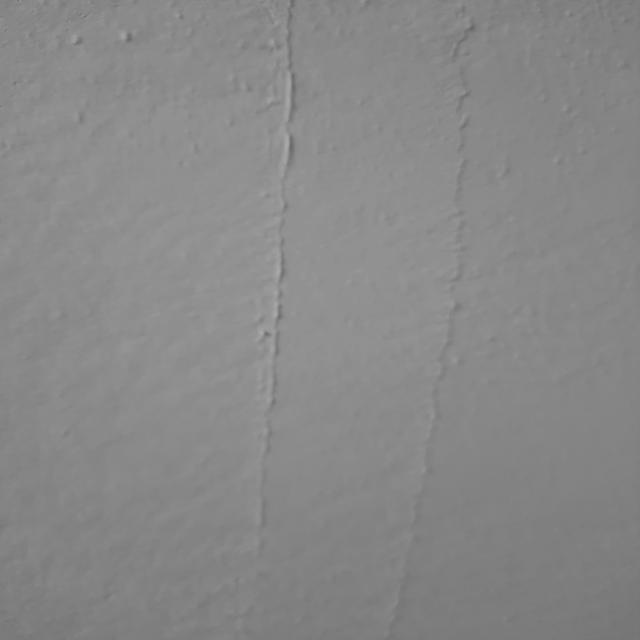rough and patchy surface: (0, 0, 632, 630)
